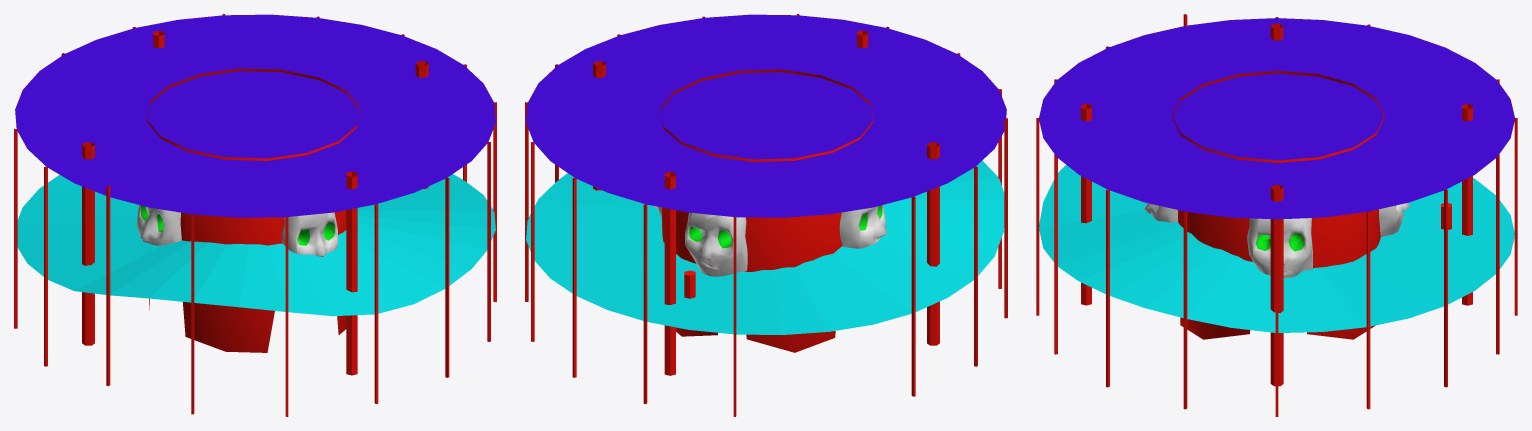
File: Floor 14.fbx
3 views of the same model, side by side, from view 1: azimuth 30°, elevation 25°; view 2: azimuth 150°, elevation 25°; view 3: azimuth 270°, elevation 25° (orthographic).
Visible parts, largest first — view 1: Floor14Mesh.001; view 2: Floor14Mesh.001; view 3: Floor14Mesh.001.
Boxes of the visible parts, left/top/right/bottom form: Floor14Mesh.001: left=14, top=14, right=496, bottom=416; Floor14Mesh.001: left=525, top=14, right=1007, bottom=416; Floor14Mesh.001: left=1036, top=14, right=1517, bottom=416.
Size of what is drawn, in the model's own units: 14433 by 6912 by 14433.
